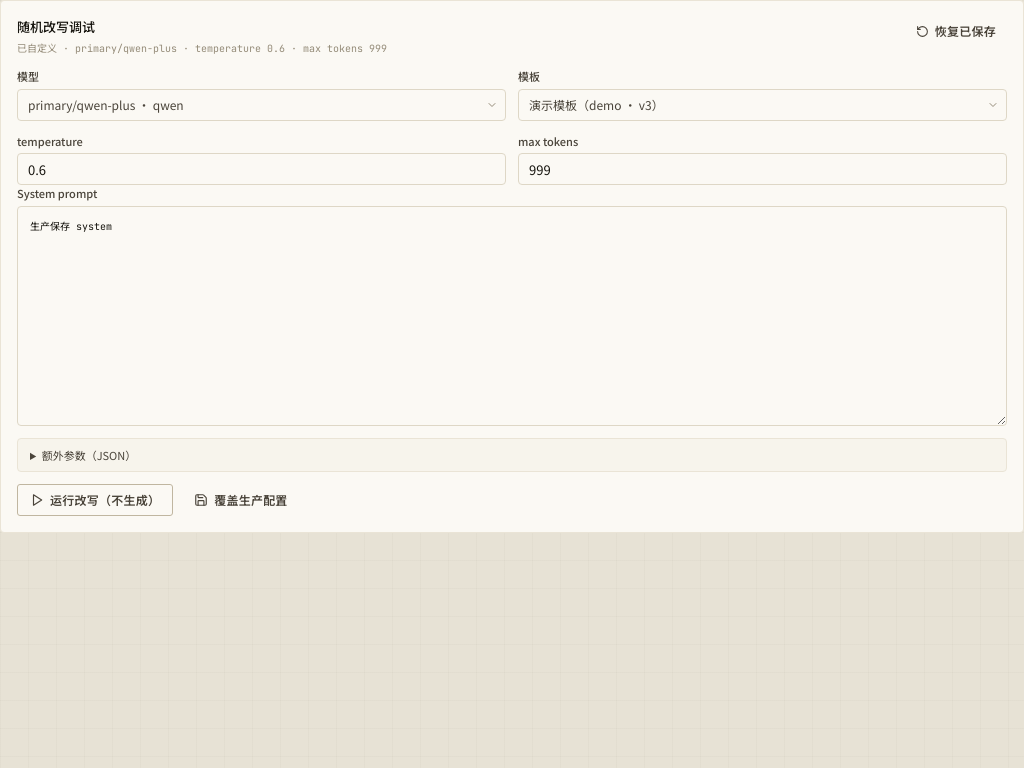
Test: 已保存配置的回填与恢复 › 加载保存值；改乱后「恢复已保存」回到保存值而不是代码默认
This screenshot has width=1024, height=768.
Expected: the number field labelled "temperature" holds "0.6", [17,153,506,185]
Expected: the number field labelled "max tokens" holds "999", [518,153,1007,185]
Replace the text in the text box labelled "System prompt" with "临时改乱的内容" at (512, 316), box [17,206,1007,426]
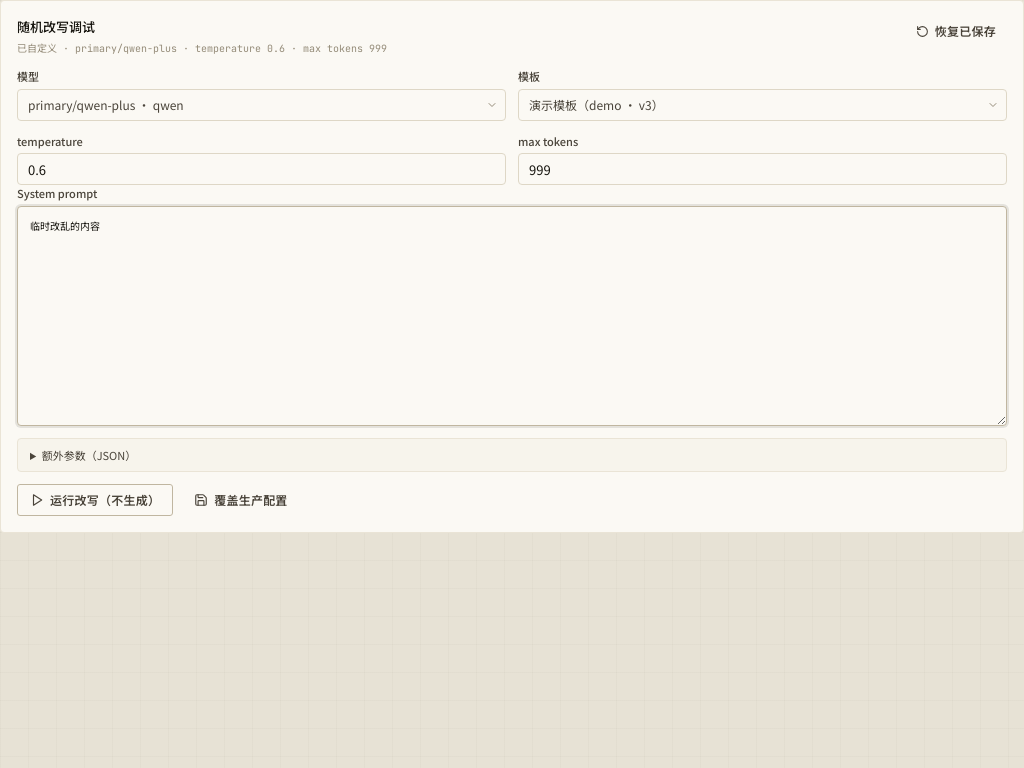
Click the button "恢复已保存" at (956, 31), box [905,17,1007,45]
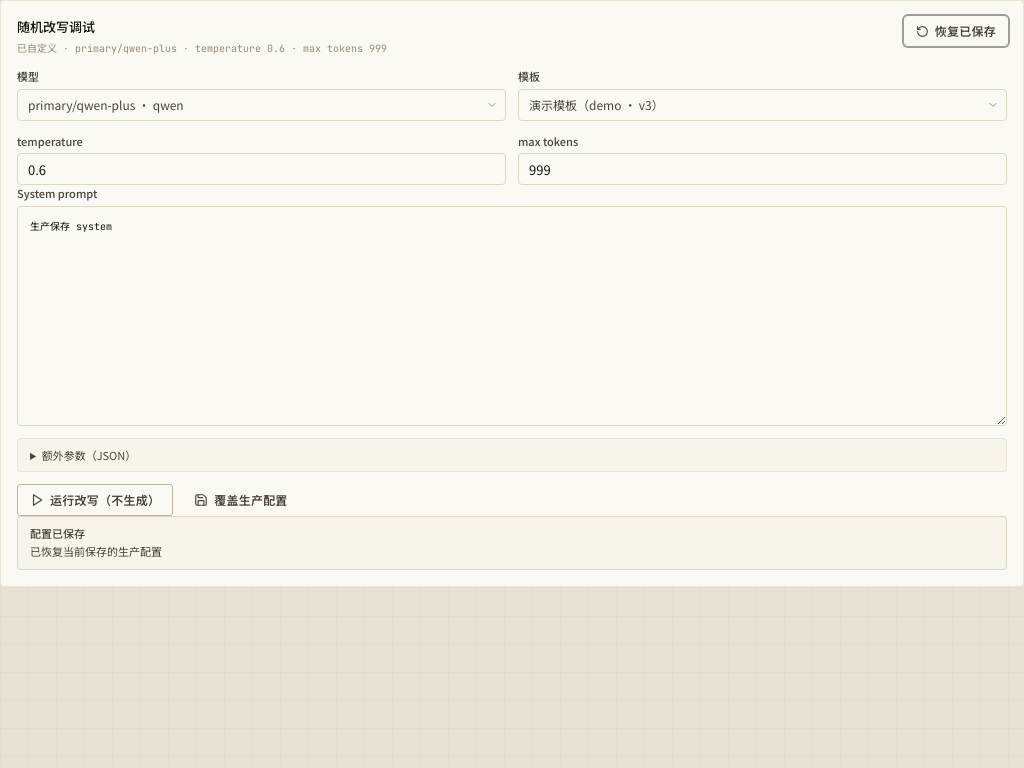
Expected: the number field labelled "temperature" holds "0.6", [17,153,506,185]
Expected: the text box labelled "System prompt" holds "生产保存 system", [17,206,1007,426]
